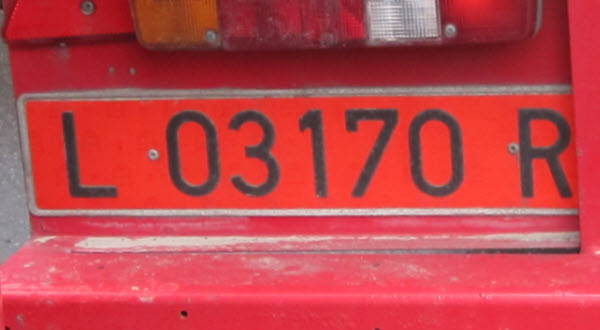license_plate: (19, 90, 581, 212)
